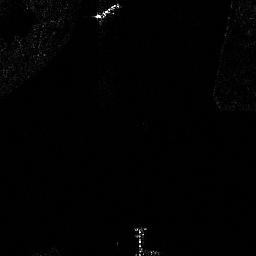ship: (95, 2, 119, 21)
